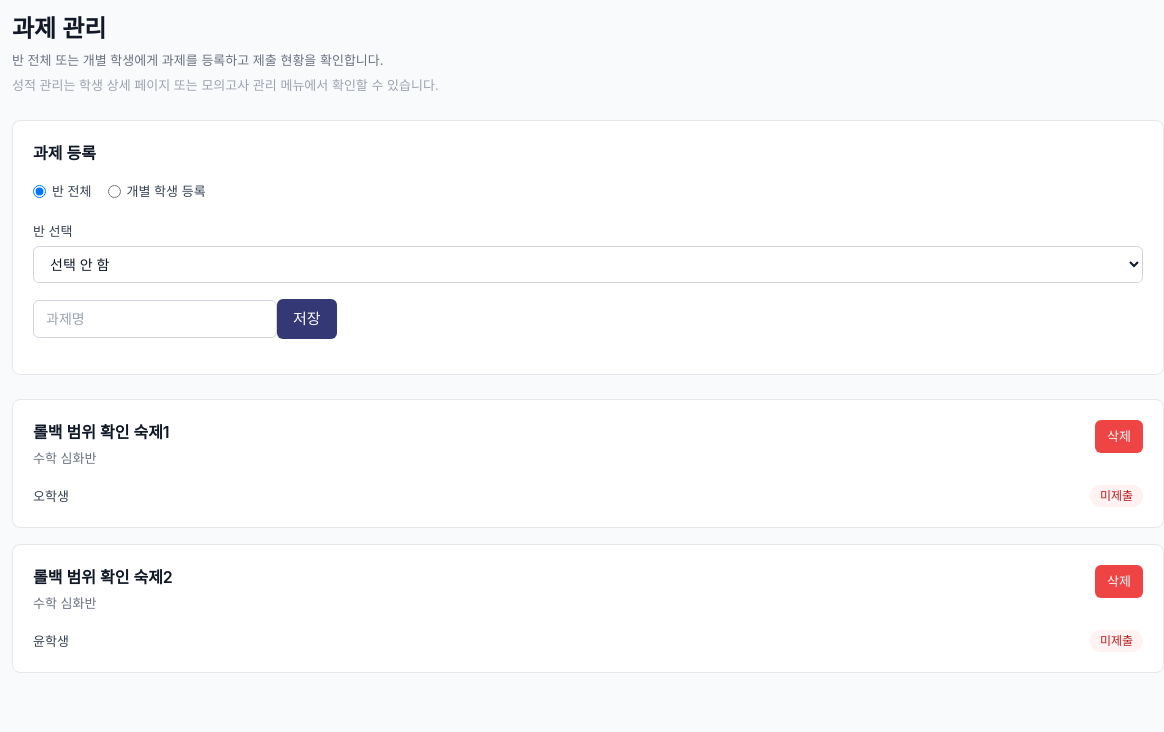
Scenario: 과제 관리 페이지: 제출 상태 배지 클릭 › 실패 후에도 다른 과제/다른 학생의 배지 상태는 영향받지 않는다(롤백이 해당 submission에만 국한됨을 확인)
Expected: the heading "롤백 범위 확인 숙제1" is shown, 33,420 -> 170,444
Click the button "미제출" in the row of "오학생": (1116,496) 1090,485 -> 1143,507
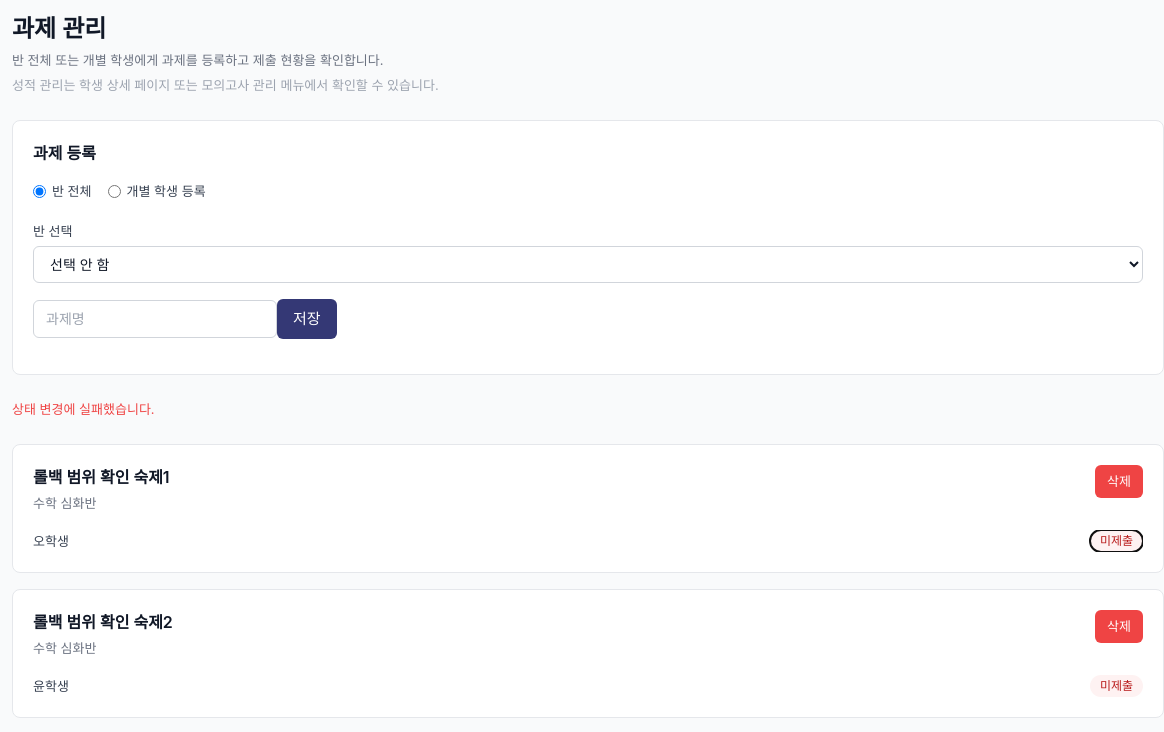
Expected: the button "미제출" in the row of "오학생" is shown, 1090,530 -> 1143,552
Expected: the text "상태 변경에 실패했습니다." is shown, 12,401 -> 155,417
